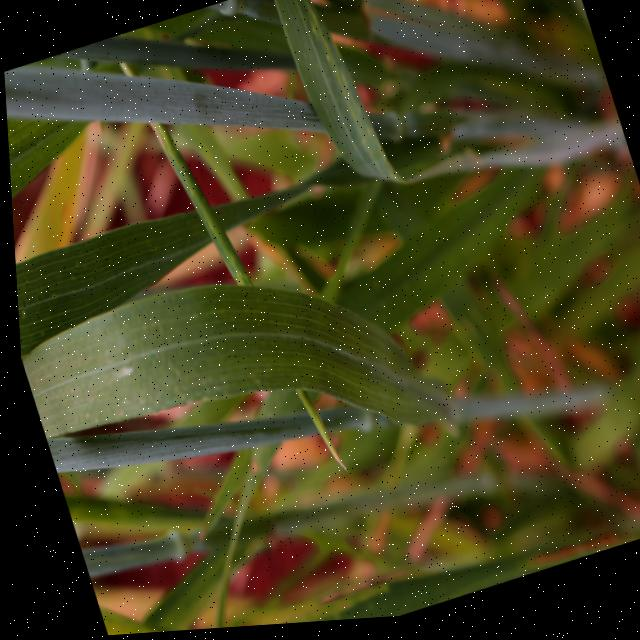healthy_wheat: (8, 139, 504, 548), (75, 444, 534, 637), (0, 0, 364, 227)
